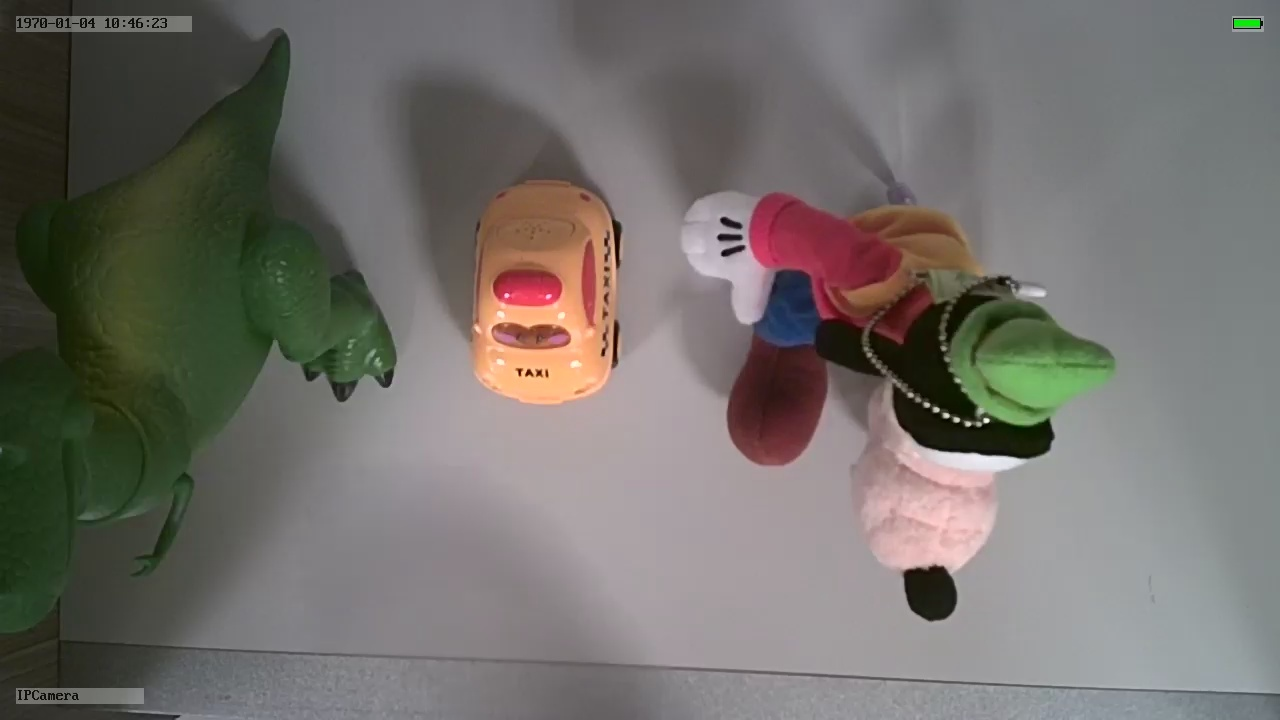car: (466, 166, 628, 410)
goofy: (671, 185, 1119, 623)
